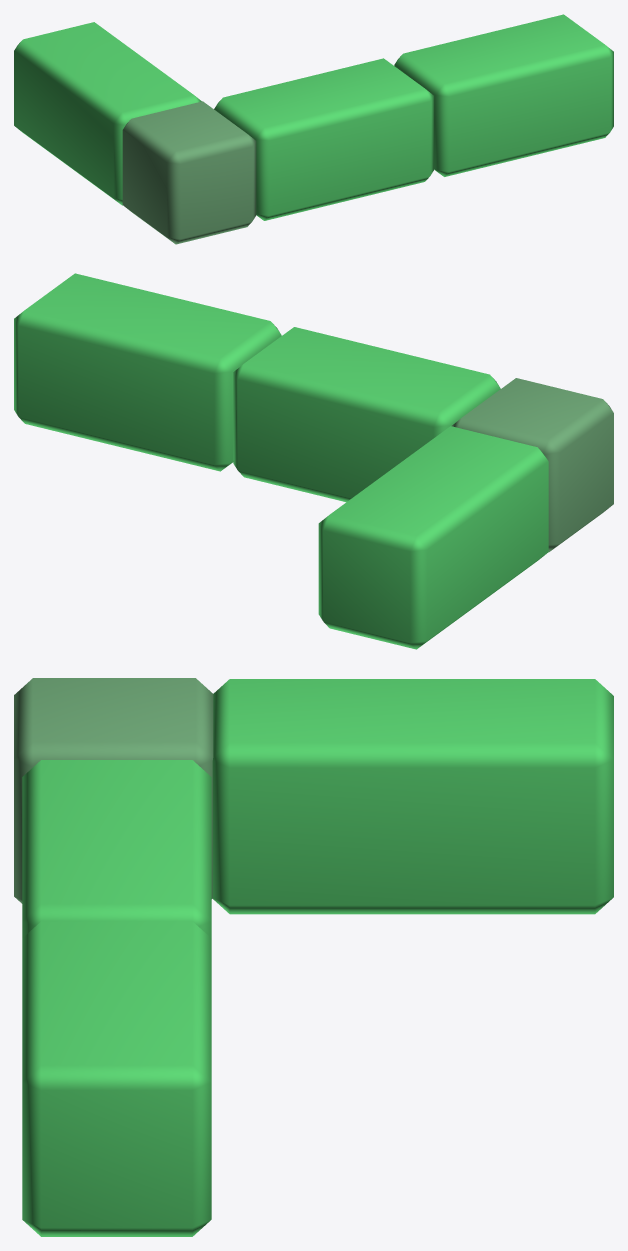
Rendered from bush.fbx.
3 renders of one model, top to bottom at view 1: azimuth 30°, elevation 25°; view 2: azimuth 150°, elevation 25°; view 3: azimuth 270°, elevation 25°, orthographic. The views are drawn at different scales.
Visible parts, largest first — view 1: polySurface54, polySurface55, polySurface108, polySurface107; view 2: polySurface108, polySurface54, polySurface55, polySurface107; view 3: polySurface108, polySurface54, polySurface55, polySurface107.
Boxes of the visible parts, x1=… form: polySurface54: x1=394, y1=14, x2=613, y2=176; polySurface55: x1=214, y1=58, x2=433, y2=220; polySurface108: x1=14, y1=22, x2=201, y2=205; polySurface107: x1=122, y1=101, x2=256, y2=244; polySurface108: x1=318, y1=426, x2=548, y2=649; polySurface54: x1=14, y1=273, x2=281, y2=471; polySurface55: x1=233, y1=327, x2=500, y2=502; polySurface107: x1=451, y1=378, x2=613, y2=551; polySurface108: x1=212, y1=679, x2=613, y2=914; polySurface54: x1=22, y1=921, x2=211, y2=1236; polySurface55: x1=22, y1=760, x2=211, y2=937; polySurface107: x1=14, y1=678, x2=213, y2=903.
Size of the model in its own units: 503 by 100 by 317.
